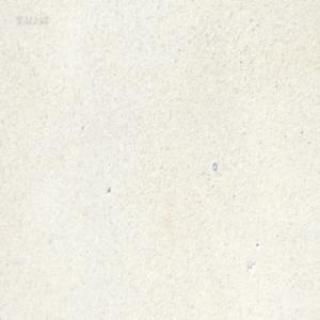Washertrack_idkeyframe: (211, 161, 216, 171)
